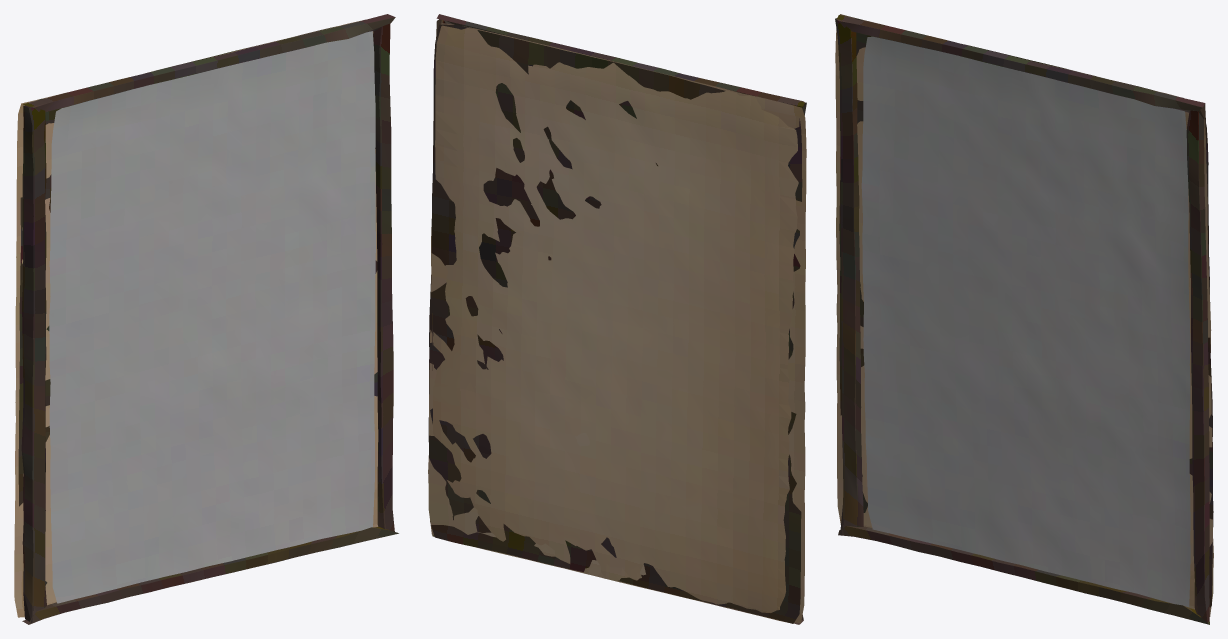
File: testmirror.glb
3 renders of one model, left to right at view 1: azimuth 30°, elevation 25°; view 2: azimuth 150°, elevation 25°; view 3: azimuth 330°, elevation 25°, orthographic.
Parts seen in each view (by area): view 1: objamage_decoded; view 2: objamage_decoded; view 3: objamage_decoded.
Boxes of the visible parts, left/top/right/bottom form: objamage_decoded: left=14, top=14, right=398, bottom=624; objamage_decoded: left=428, top=14, right=806, bottom=624; objamage_decoded: left=835, top=14, right=1213, bottom=624.
Bounding box in the file's own units: 1.53 × 2 × 0.0711.
1 material, 1 textured.
